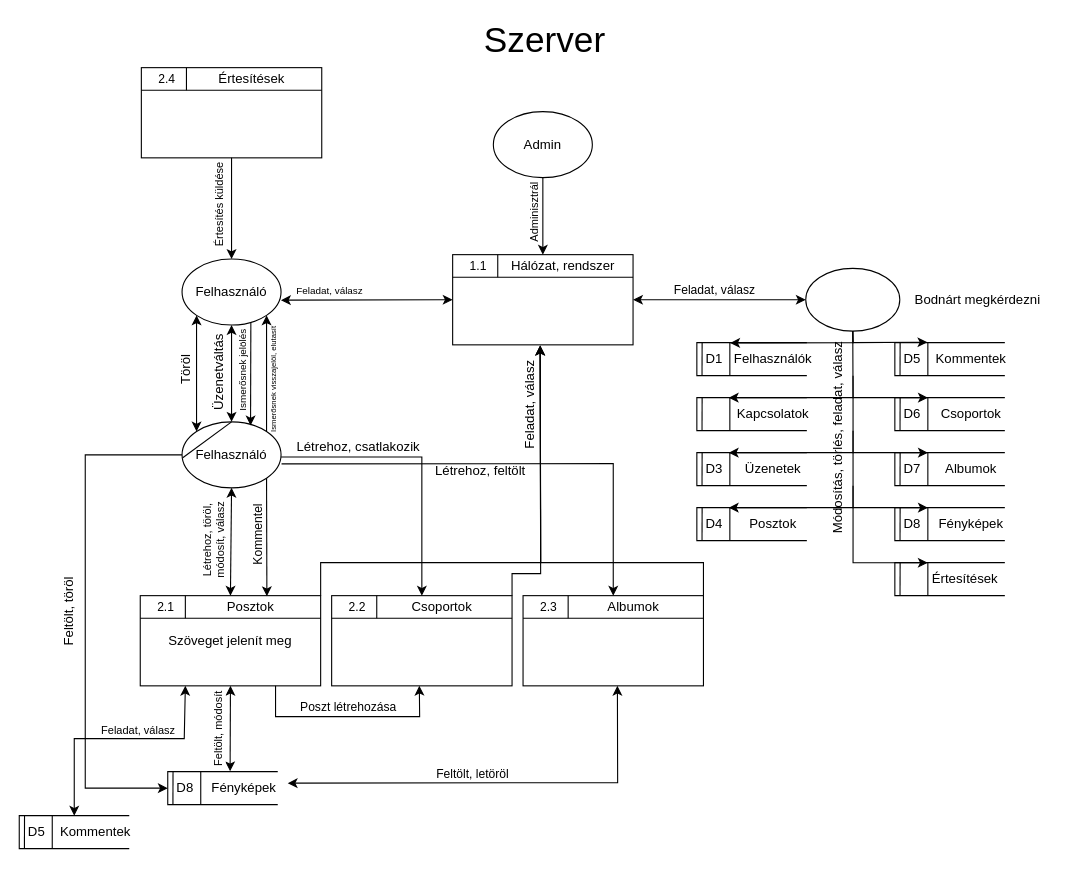
The diagram is 1073 pixels wide and 869 high, and some of its shapes have lost their labels. The shapes that lost their labels are listed below. From the top down, each one's box as (x1, y1, x2, y2) in pixels, then its label:
(140, 67, 322, 158): Értesítések küldése
(452, 254, 633, 345): Weboldal üzemelése, adatok kezelése
(805, 267, 900, 331): Adatbázis
(696, 397, 807, 431): D2
(894, 562, 1005, 596): D9
(331, 595, 512, 686): Felhasználók összesége
(522, 595, 703, 686): Felhasználók albumjai
